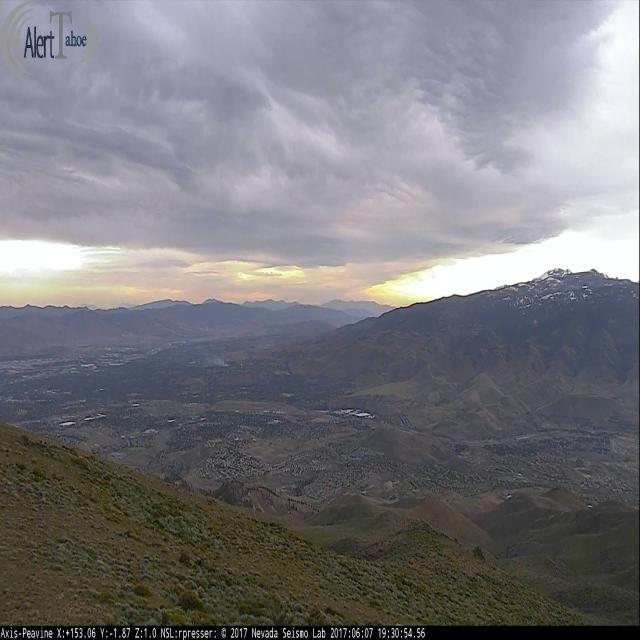smoke: (210, 354, 229, 366)
